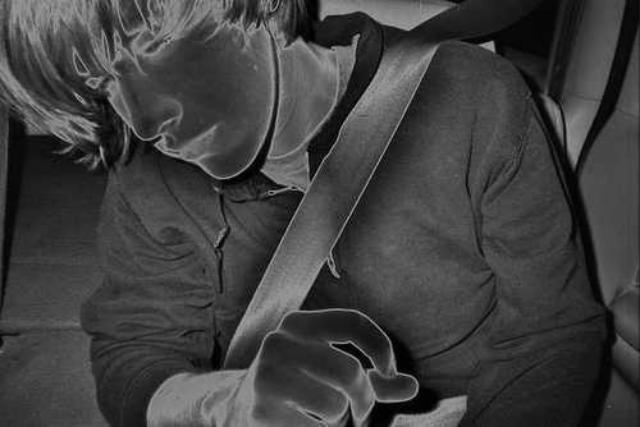Seatbelt: (218, 0, 542, 376)
